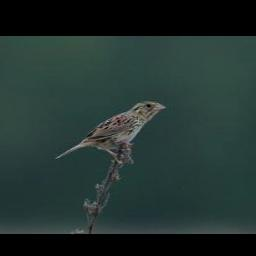Sparrow: (53, 99, 164, 164)
